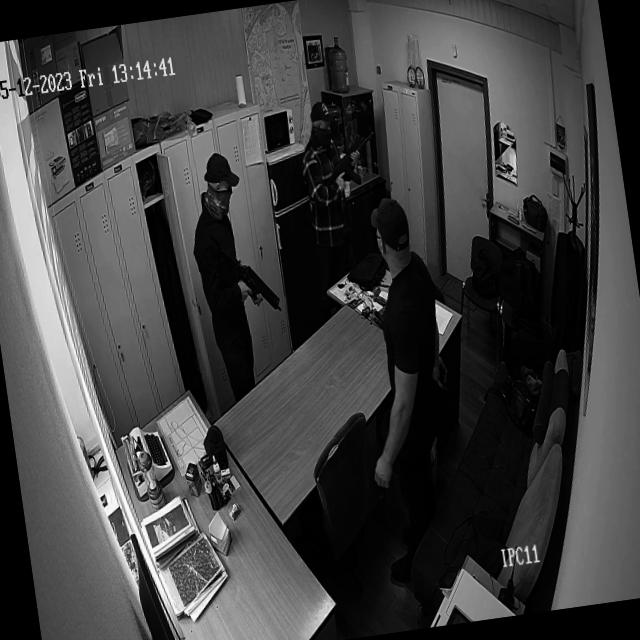gun: (214, 237, 284, 325), (324, 128, 381, 187)
person: (354, 195, 466, 531)
person with a gun: (184, 158, 265, 398), (294, 100, 362, 310)
